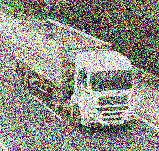truck: (11, 19, 135, 130)
